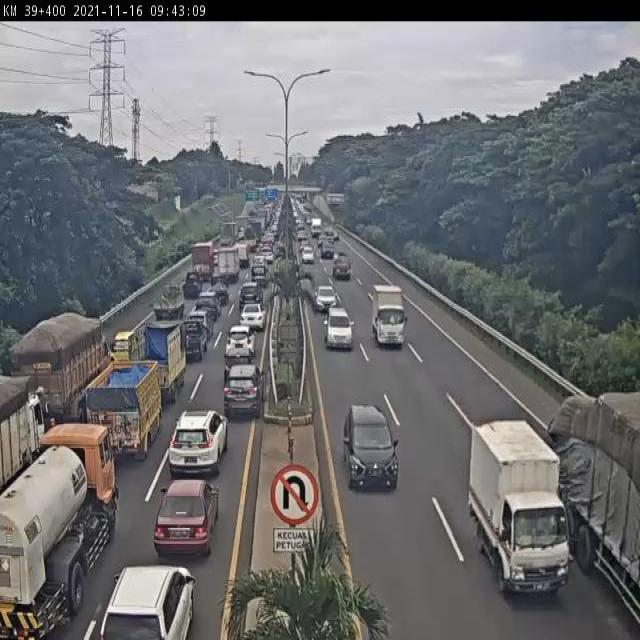car: (98, 565, 194, 640), (156, 478, 220, 558), (343, 404, 400, 492), (171, 409, 229, 476), (225, 365, 266, 420), (323, 307, 355, 349), (226, 327, 257, 362), (240, 305, 267, 331), (196, 292, 222, 317), (239, 284, 263, 309), (111, 334, 132, 362), (209, 276, 229, 304), (190, 312, 213, 336), (315, 284, 337, 309), (182, 273, 201, 299), (250, 267, 267, 288), (321, 242, 334, 262), (254, 257, 268, 272), (303, 247, 315, 264), (260, 248, 273, 263)
small truck: (468, 422, 569, 594), (373, 284, 408, 351), (182, 319, 208, 361), (331, 251, 353, 280), (233, 244, 249, 268)
truck-l-: (553, 368, 640, 633), (12, 315, 110, 424), (0, 378, 45, 498)
truck-m-: (0, 421, 117, 640), (88, 359, 163, 461), (128, 320, 187, 400), (152, 287, 182, 320), (192, 243, 214, 280), (217, 249, 239, 283), (220, 221, 238, 247)
